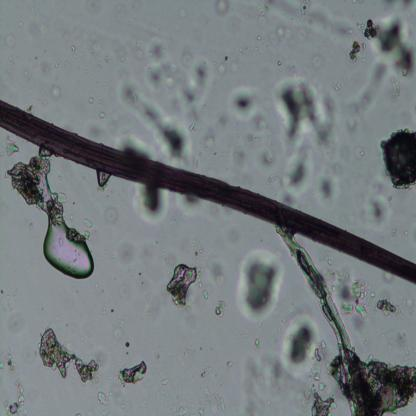Air bubble: (23, 160, 94, 278)
Background material: (114, 54, 195, 160), (280, 309, 336, 414), (345, 14, 416, 82), (274, 73, 340, 145), (148, 38, 210, 113), (241, 0, 327, 49), (351, 352, 416, 415), (38, 326, 100, 386), (237, 248, 285, 323), (334, 274, 402, 320), (345, 60, 383, 135), (244, 352, 294, 408), (378, 127, 416, 197), (130, 182, 169, 226), (120, 245, 164, 283), (238, 98, 269, 146), (167, 264, 202, 306), (280, 154, 314, 191), (378, 328, 415, 358), (195, 382, 227, 416), (223, 136, 252, 173), (116, 360, 150, 388), (109, 306, 132, 347), (314, 166, 336, 206), (228, 88, 255, 119), (212, 50, 239, 80), (56, 38, 84, 66), (3, 378, 24, 415), (220, 218, 244, 246), (368, 192, 386, 229), (98, 210, 124, 235), (91, 40, 109, 76), (188, 232, 208, 263), (203, 259, 228, 282), (0, 341, 17, 371), (3, 29, 17, 64), (168, 393, 189, 416), (303, 51, 324, 72), (194, 134, 218, 152), (258, 148, 275, 168), (351, 141, 367, 162), (214, 297, 228, 320), (402, 292, 414, 315), (196, 362, 212, 379), (5, 314, 20, 332), (216, 0, 231, 17), (392, 73, 402, 97), (147, 301, 162, 317), (388, 223, 409, 234), (51, 83, 62, 104), (5, 140, 19, 155), (158, 371, 168, 392), (97, 390, 109, 406), (96, 109, 109, 121), (42, 63, 52, 78), (89, 91, 96, 110), (152, 350, 160, 365), (252, 334, 259, 348), (224, 361, 230, 371)
Cellulose filter fibre: (274, 224, 364, 414)
Microfibre: (0, 100, 416, 284)
